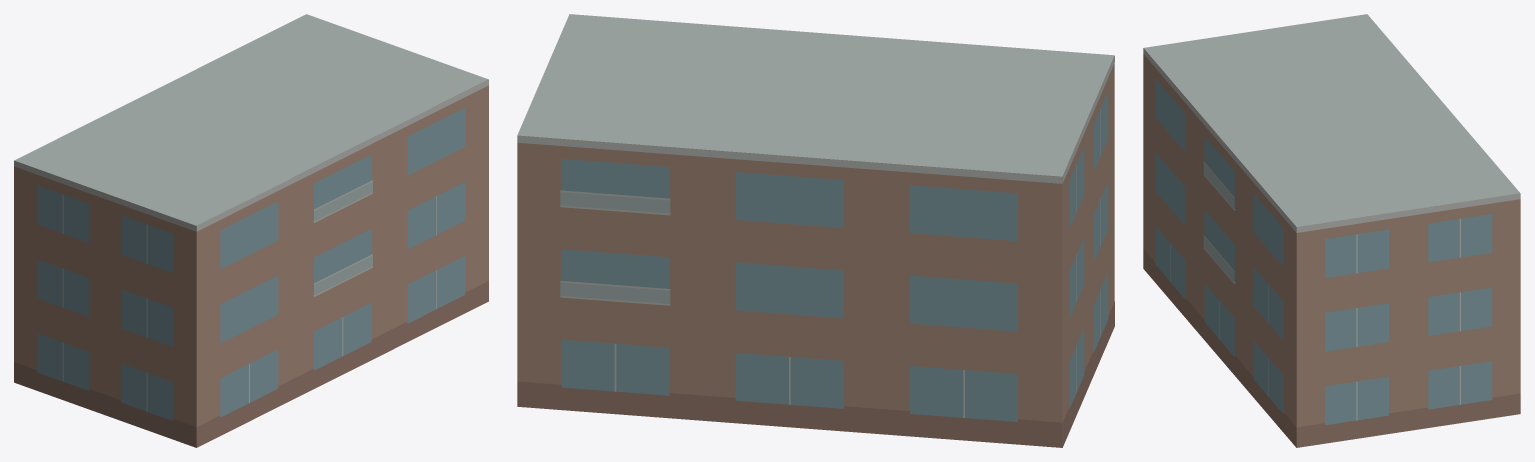
Rendered from survey-upis-32987369.glb.
3 renders of one model, left to right at view 1: azimuth 30°, elevation 25°; view 2: azimuth 150°, elevation 25°; view 3: azimuth 270°, elevation 25°, orthographic. The views are drawn at different scales.
Parts seen in each view (by area): view 1: survey-upis-32987369.tmp; view 2: survey-upis-32987369.tmp; view 3: survey-upis-32987369.tmp.
Boxes of the visible parts, x1,y1,x2,y2 form: survey-upis-32987369.tmp: (14, 14, 488, 447); survey-upis-32987369.tmp: (517, 14, 1114, 447); survey-upis-32987369.tmp: (1143, 14, 1520, 447).
Size of the model in its own units: 18.95 by 9.15 by 14.18.
